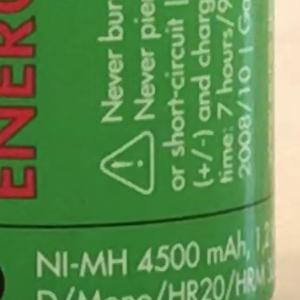keyword: (28, 242, 133, 285)
